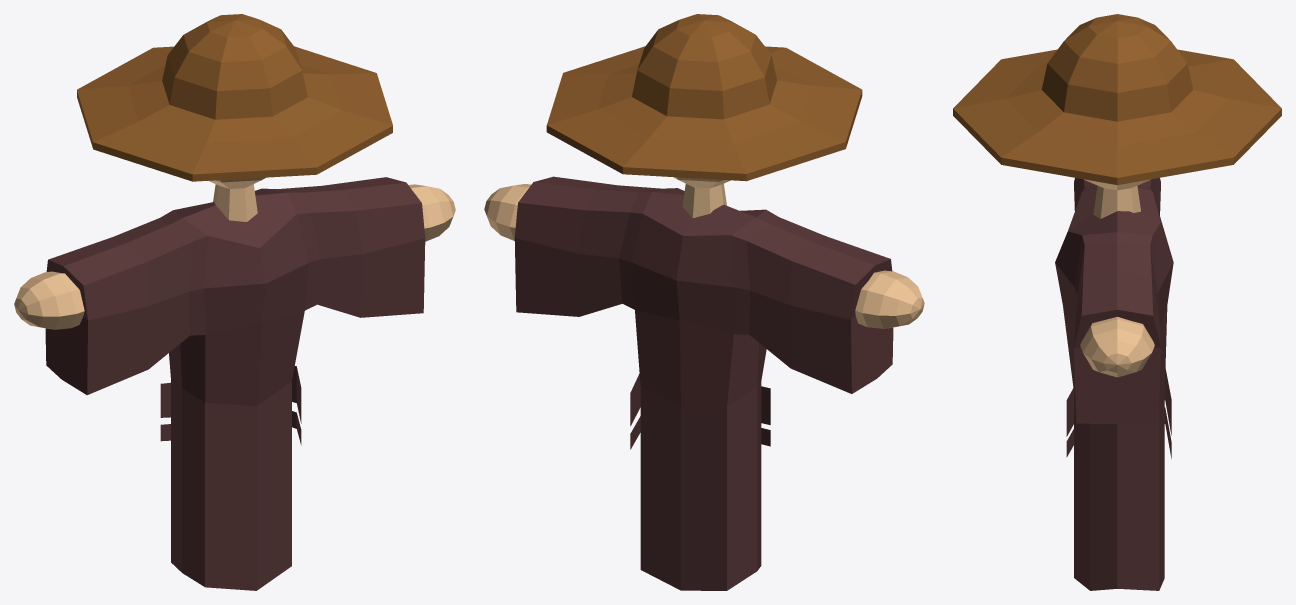
Rendered from Kakasi-L1.fbx.
The picture shows the model from 3 angles, left to right: view 1: azimuth 30°, elevation 25°; view 2: azimuth 150°, elevation 25°; view 3: azimuth 270°, elevation 25°; orthographic projection.
Parts seen in each view (by area): view 1: 立方体.028; view 2: 立方体.028; view 3: 立方体.028.
Boxes of the visible parts, x1=… form: 立方体.028: x1=14, y1=14, x2=455, y2=590; 立方体.028: x1=484, y1=14, x2=924, y2=590; 立方体.028: x1=953, y1=14, x2=1281, y2=590.
Size of the model in its own units: 234 by 287 by 153.
